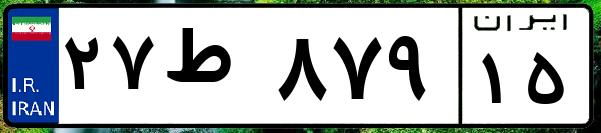1: (475, 38, 525, 113)
2: (57, 26, 110, 100)
5: (525, 38, 570, 115)
7: (330, 28, 385, 110), (110, 28, 158, 98)
8: (270, 28, 330, 110)
9: (385, 28, 445, 110)
ط: (158, 20, 270, 120)
